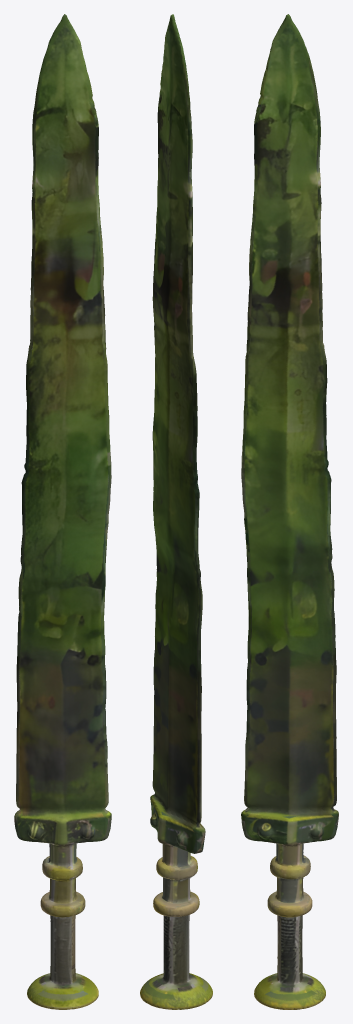
The model's file is greendagger.glb.
3 views of the same model, side by side, from view 1: azimuth 90°, elevation 25°; view 2: azimuth 210°, elevation 25°; view 3: azimuth 270°, elevation 25° (orthographic).
Visible parts, largest first — view 1: tripo_node_9cad9d5a-f8bd-4621-9cce-fbe7ddfcba5d; view 2: tripo_node_9cad9d5a-f8bd-4621-9cce-fbe7ddfcba5d; view 3: tripo_node_9cad9d5a-f8bd-4621-9cce-fbe7ddfcba5d.
Part boxes in pixels (x1,y1,x2,y2): tripo_node_9cad9d5a-f8bd-4621-9cce-fbe7ddfcba5d: (14, 14, 111, 1009); tripo_node_9cad9d5a-f8bd-4621-9cce-fbe7ddfcba5d: (140, 14, 212, 1009); tripo_node_9cad9d5a-f8bd-4621-9cce-fbe7ddfcba5d: (241, 14, 338, 1009).
Size of the model in its own units: 0.0676 by 1 by 0.0903.
Materials: 1 (1 with a texture image).
